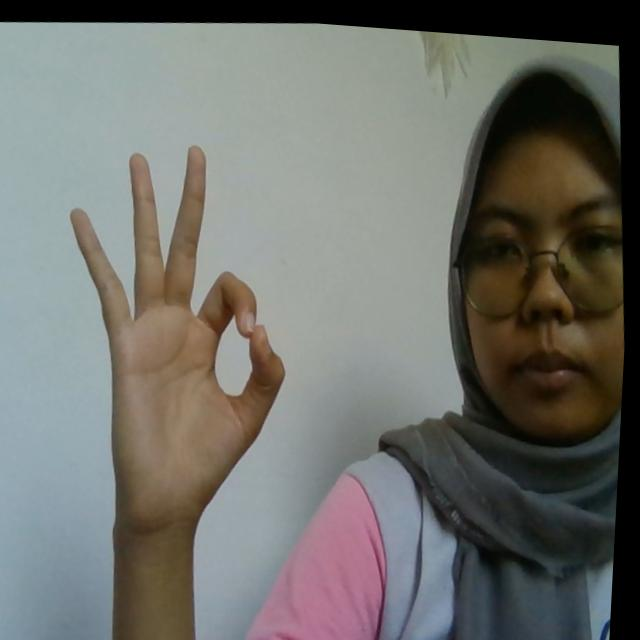F: (55, 128, 312, 531)
